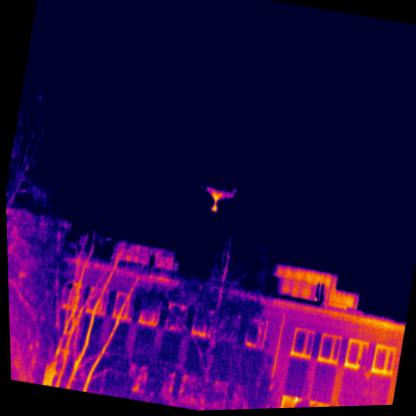drone: (195, 179, 235, 215)
